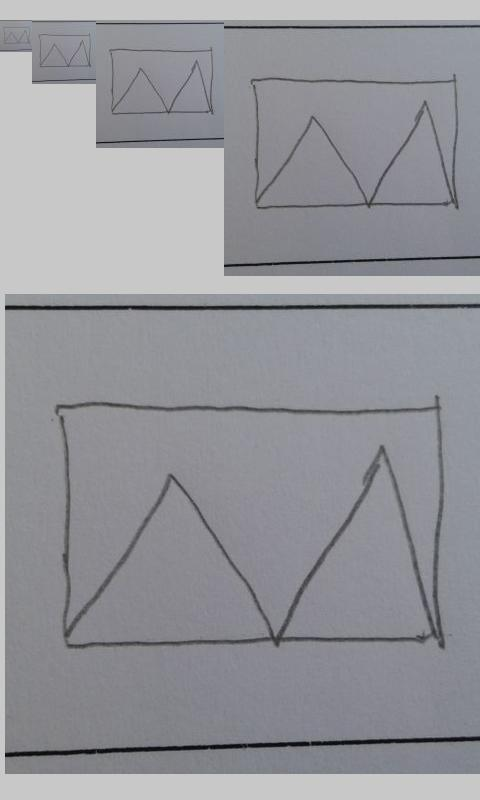image_view: (52, 396, 445, 648), (251, 76, 461, 209), (109, 46, 215, 118), (38, 33, 92, 69), (3, 26, 31, 45)
